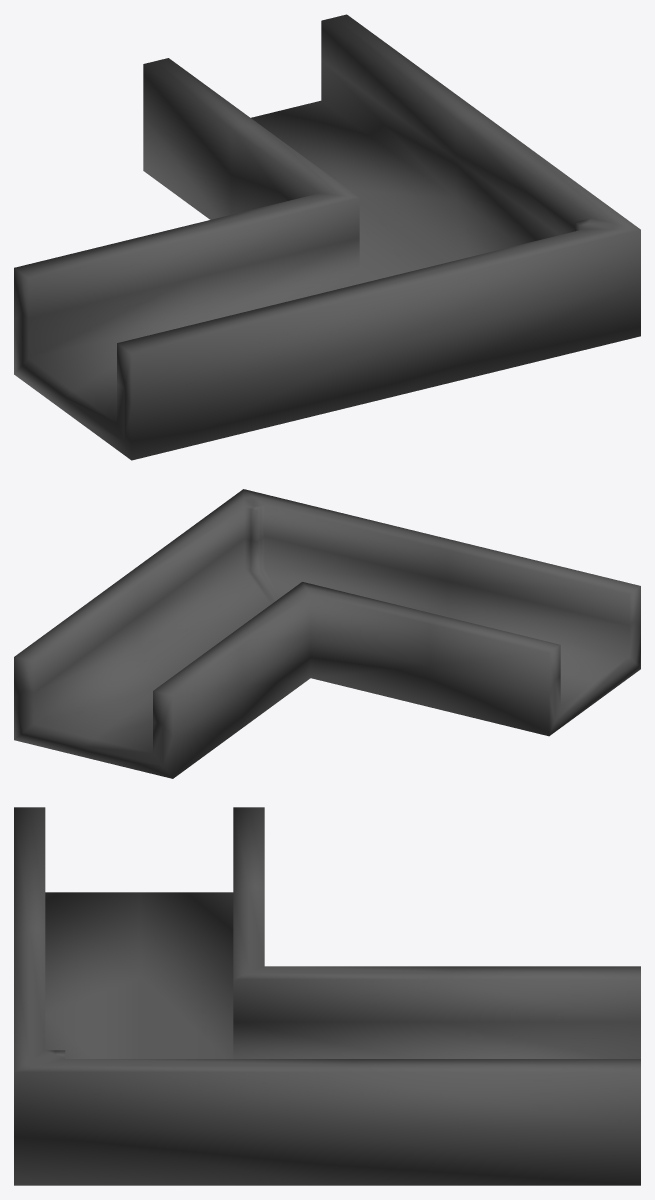
The picture shows the model from 3 angles, top to bottom: view 1: azimuth 30°, elevation 25°; view 2: azimuth 150°, elevation 25°; view 3: azimuth 270°, elevation 25°; orthographic projection. The views are drawn at different scales.
Visible parts, largest first — view 1: defaultobject; view 2: defaultobject; view 3: defaultobject.
Boxes of the visible parts, x1,y1,x2,y2 form: defaultobject: [14, 14, 640, 460]; defaultobject: [14, 489, 640, 778]; defaultobject: [14, 807, 640, 1185].
Bounding box in the file's own units: 0.625 × 0.125 × 0.625.
1 material, 1 textured.
